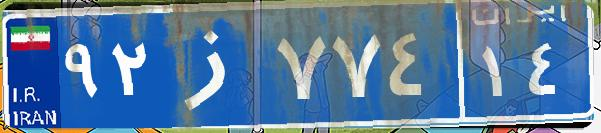1: (475, 38, 525, 113)
2: (110, 28, 158, 105)
4: (385, 28, 445, 110), (525, 38, 570, 115)
7: (273, 28, 330, 110), (330, 28, 385, 110)
9: (57, 26, 110, 107)
ز: (158, 15, 273, 115)
